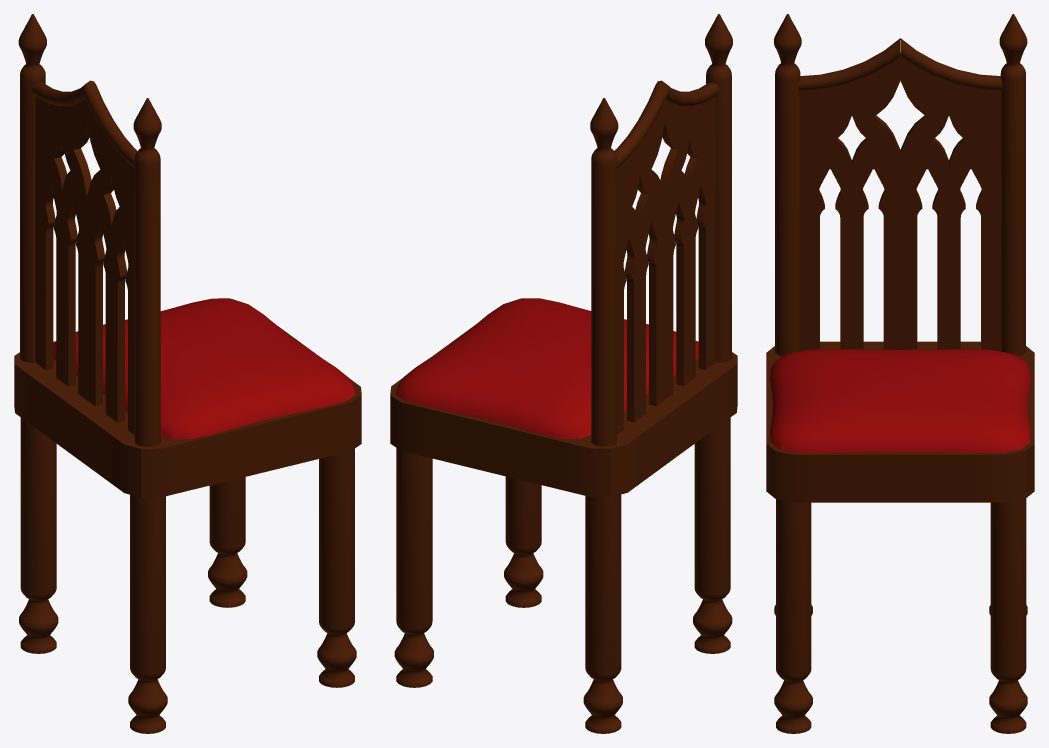
Rendered from SillaMS.fbx.
3 views of the same model, side by side, from view 1: azimuth 30°, elevation 25°; view 2: azimuth 150°, elevation 25°; view 3: azimuth 270°, elevation 25° (orthographic).
Visible parts, largest first — view 1: Box002; view 2: Box002; view 3: Box002.
Boxes of the visible parts, x1,y1,x2,y2 form: Box002: (14,14,361,733); Box002: (390,14,737,733); Box002: (766,14,1034,733).
Bounding box in the file's own units: 20 × 50.93 × 20.
